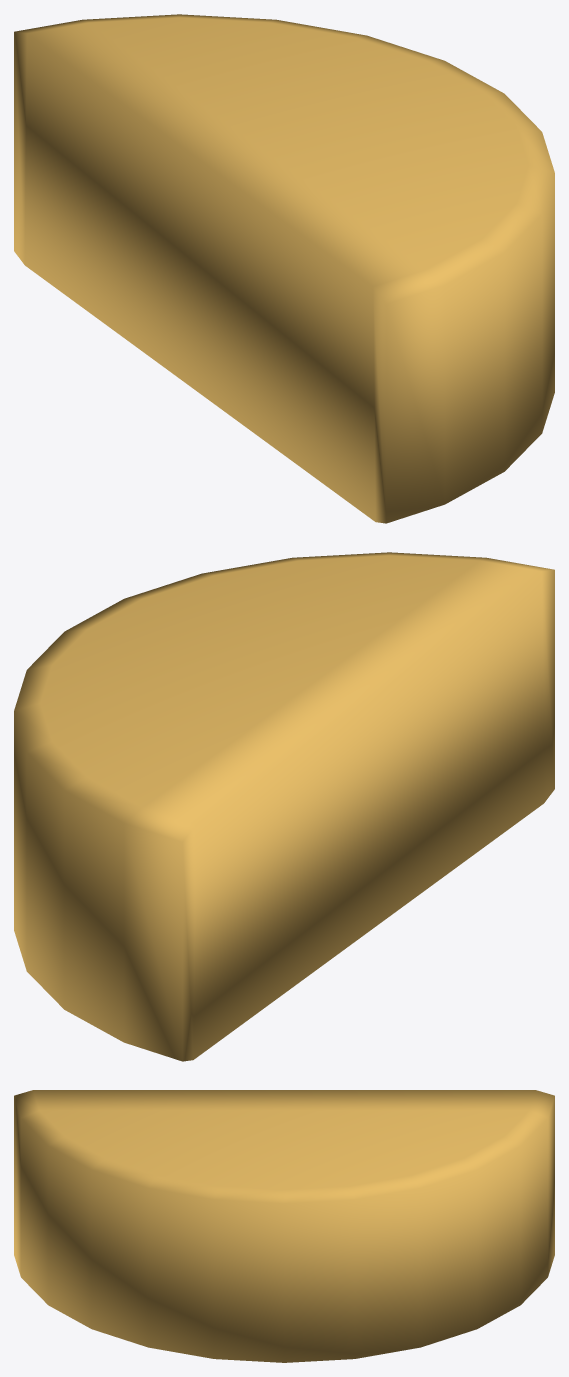
File: MezzaFormaFormaggio.fbx
3 views of the same model, one above another, from view 1: azimuth 30°, elevation 25°; view 2: azimuth 150°, elevation 25°; view 3: azimuth 270°, elevation 25° (orthographic). The views are drawn at different scales.
Parts seen in each view (by area): view 1: MezzaFormaFormaggio; view 2: MezzaFormaFormaggio; view 3: MezzaFormaFormaggio.
Boxes of the visible parts, x1,y1,x2,y2 form: MezzaFormaFormaggio: [14, 14, 554, 523]; MezzaFormaFormaggio: [14, 552, 554, 1061]; MezzaFormaFormaggio: [14, 1090, 554, 1362].
Bounding box in the file's own units: 365 × 267 × 772.
